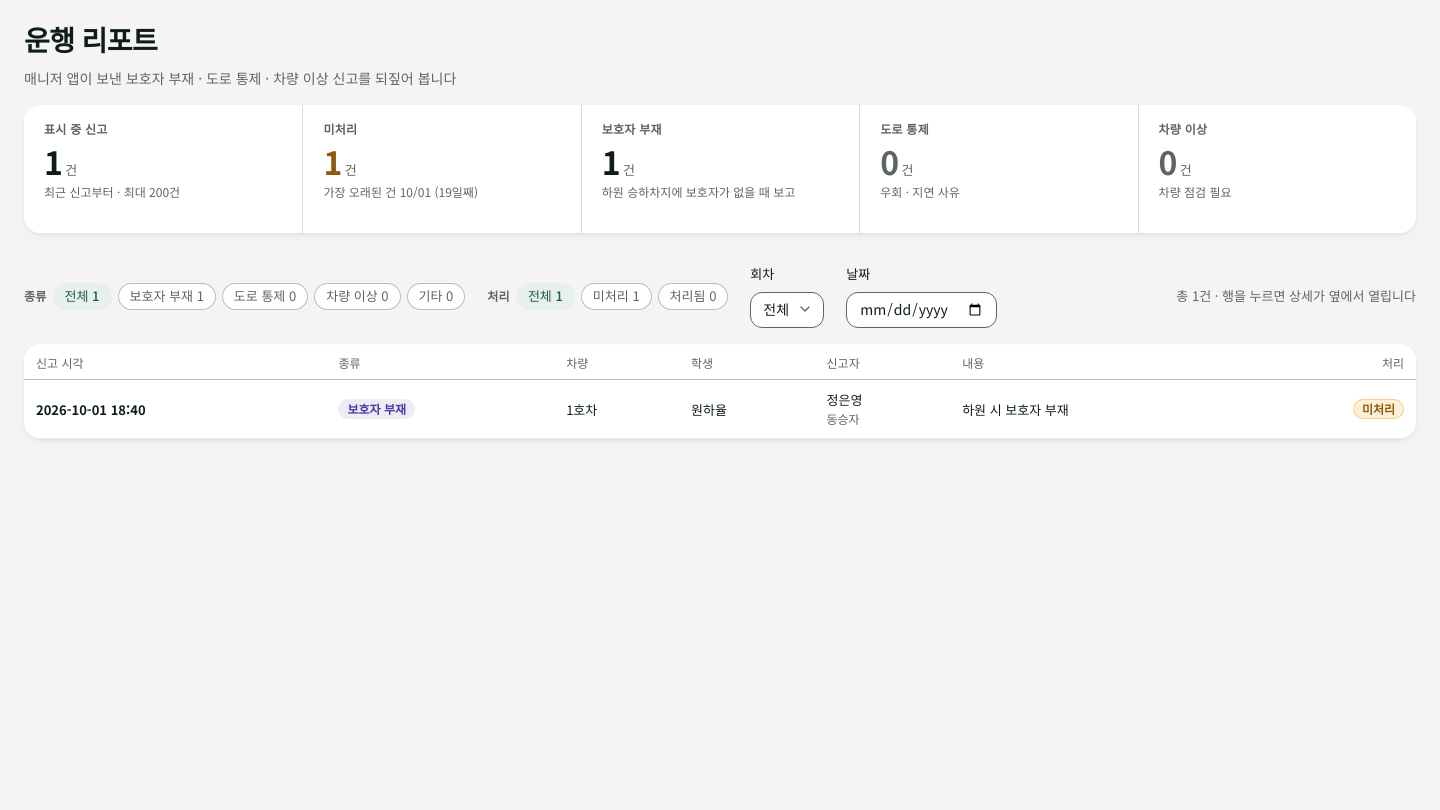
Test: ReportList — 처리 완료로 표시(Ruling 814) › 행을 눌러 연 옆 패널에서 [처리 완료로 표시] 를 누르면 그 보고 id 로 handle 을 부르고 처리됨으로 보인다
Click the text "원하율" at (709, 409), box left=679, top=380, right=815, bottom=438
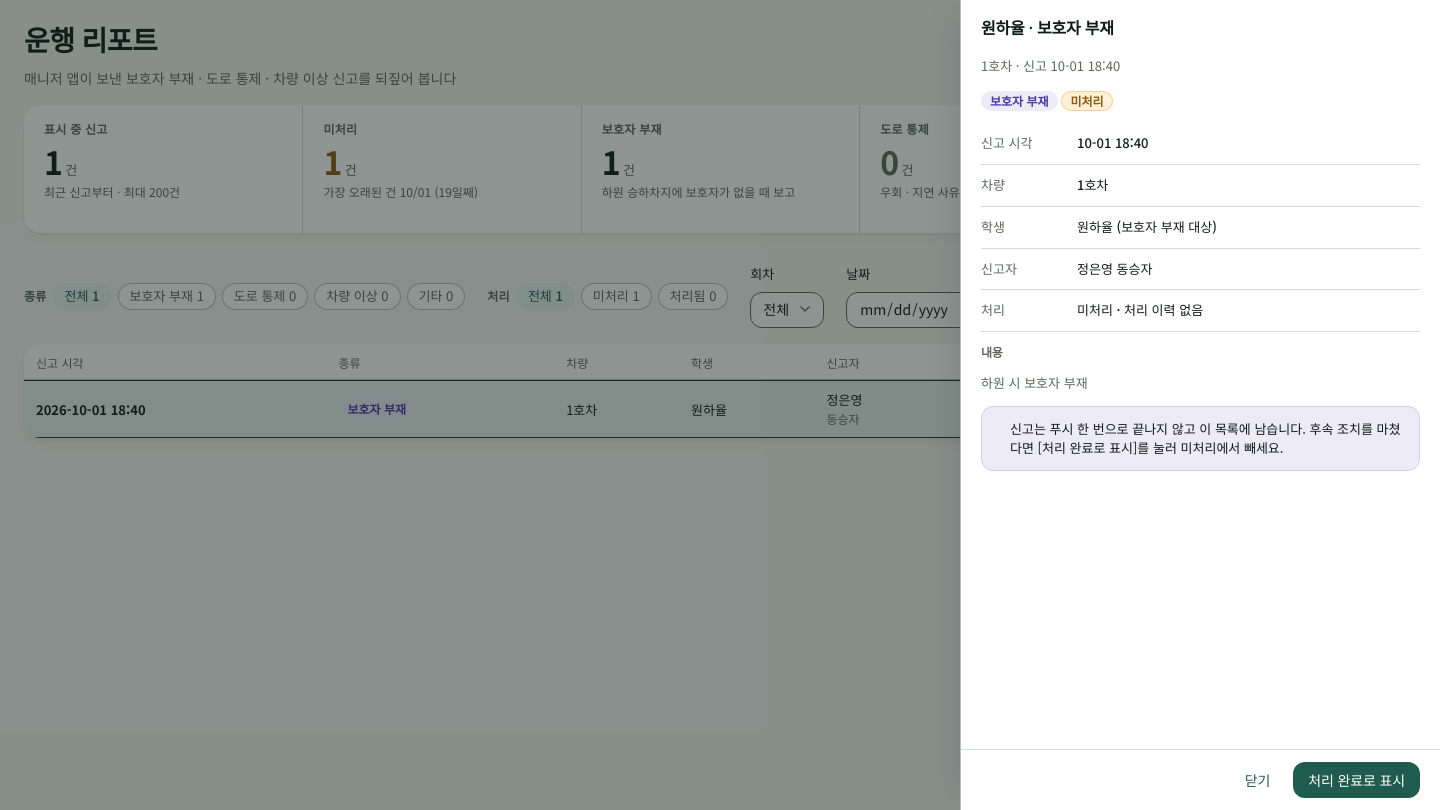
Click the button "처리 완료로 표시" at (1357, 780), box left=1293, top=762, right=1420, bottom=798
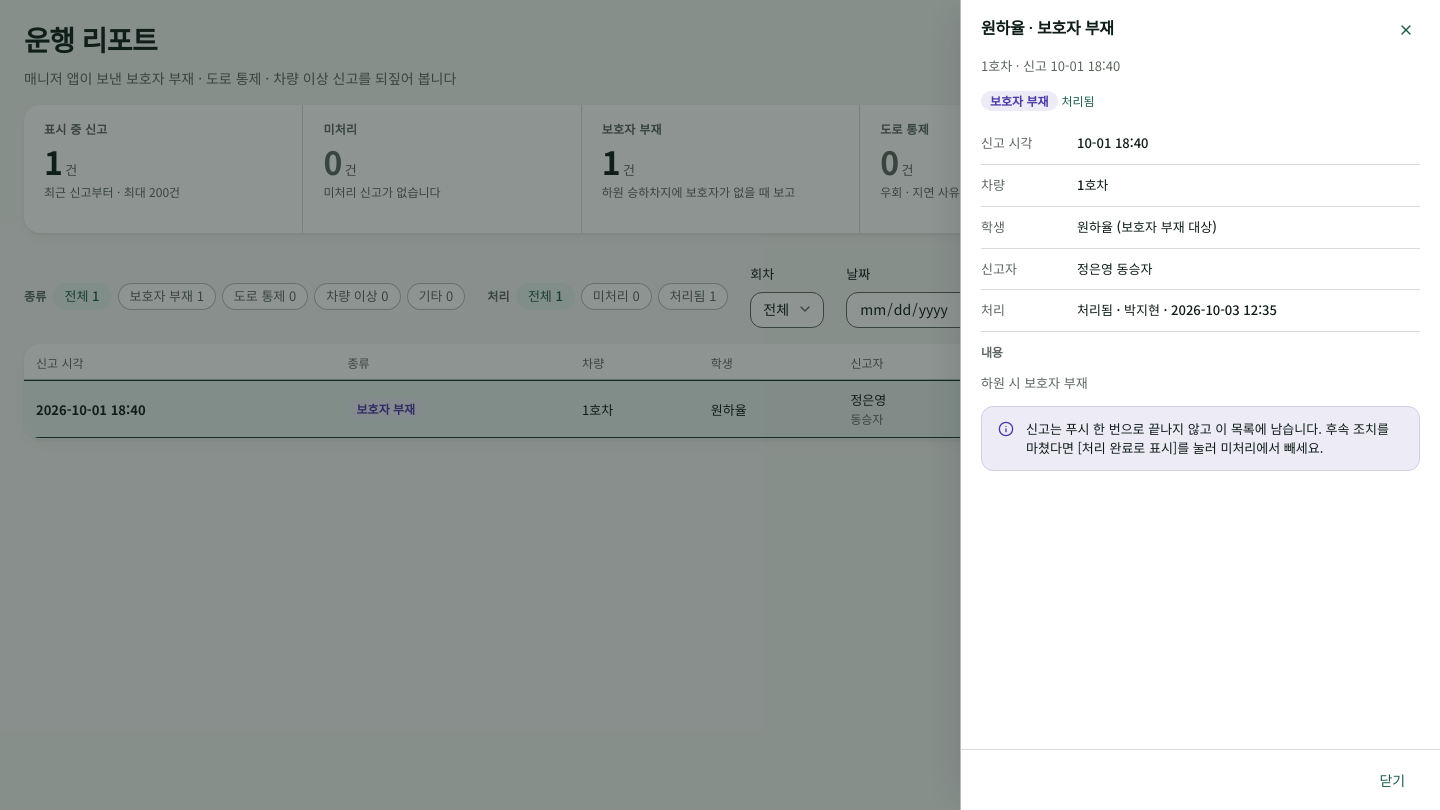
Now the text "처리됨 · 박지현 · 2026-10-03 12:35" is shown, box left=1077, top=300, right=1277, bottom=319
